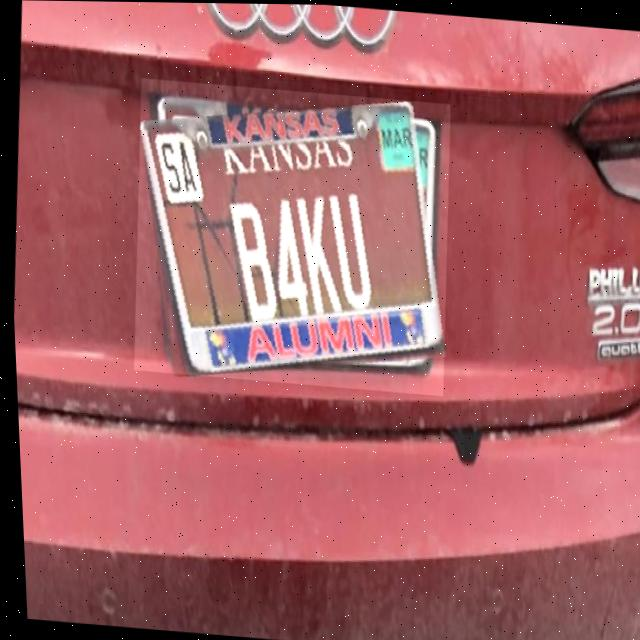LicensePlate: (140, 99, 441, 374)
